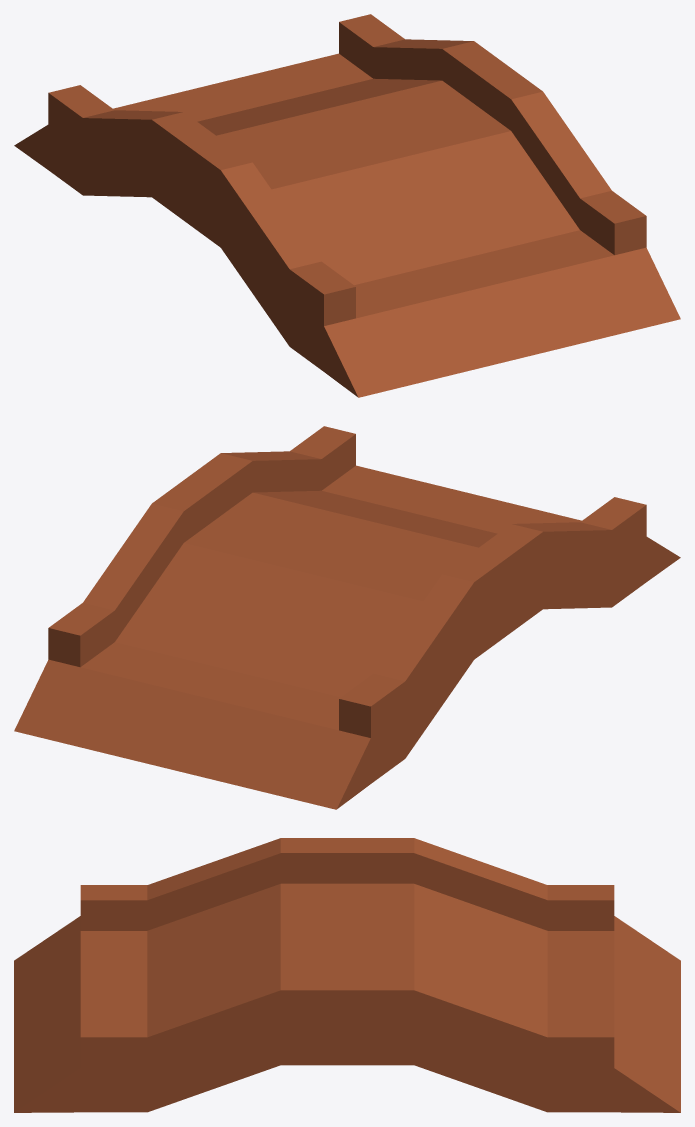
The model's file is bridge.fbx.
3 views of the same model, one above another, from view 1: azimuth 30°, elevation 25°; view 2: azimuth 150°, elevation 25°; view 3: azimuth 270°, elevation 25° (orthographic). The views are drawn at different scales.
Visible parts, largest first — view 1: Cube; view 2: Cube; view 3: Cube.
Part boxes in pixels (bbox=[...]): Cube: bbox=[14, 14, 680, 397]; Cube: bbox=[14, 426, 680, 809]; Cube: bbox=[14, 838, 680, 1112].
Bounding box in the file's own units: 540 × 203 × 1000.
